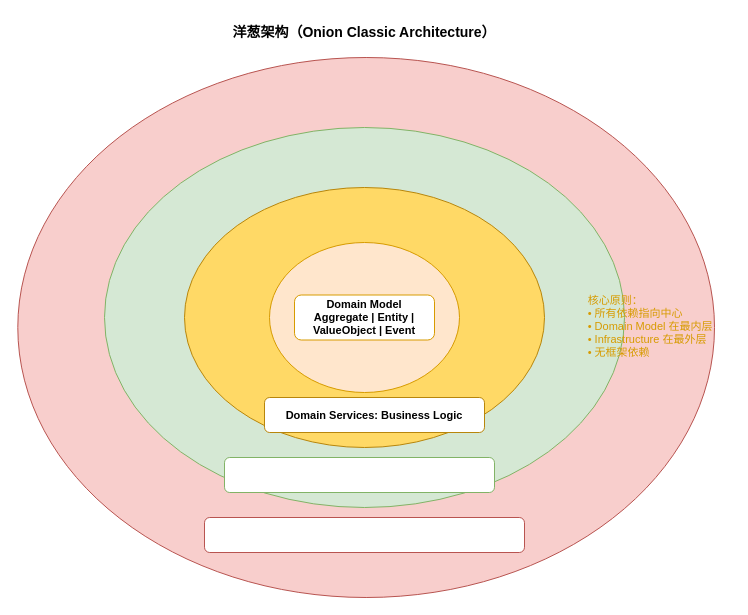
This 748x615 diagram has some shape labels left out. The shapes that lost their labels are listed below. From the top down, each one's centre as x and y in pixels, then its label:
[359,474]: Application: Use Cases, App Services, CQRS, DTO
[364,534]: Infrastructure: Framework, DB, UI, Tests, External
